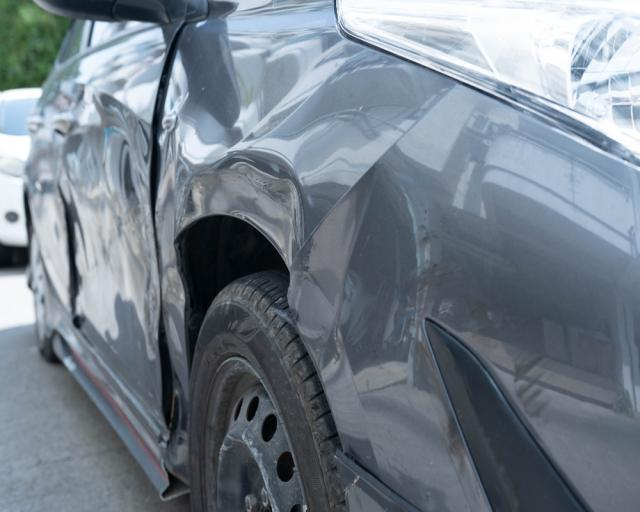dent: (168, 32, 316, 257), (62, 93, 157, 351), (295, 165, 405, 384), (169, 354, 189, 462)
